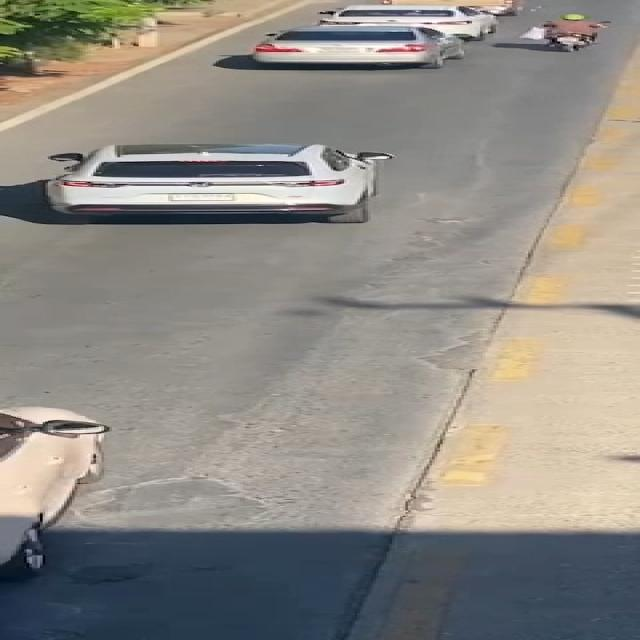car: (38, 134, 412, 230), (232, 27, 488, 74), (288, 0, 507, 41)
